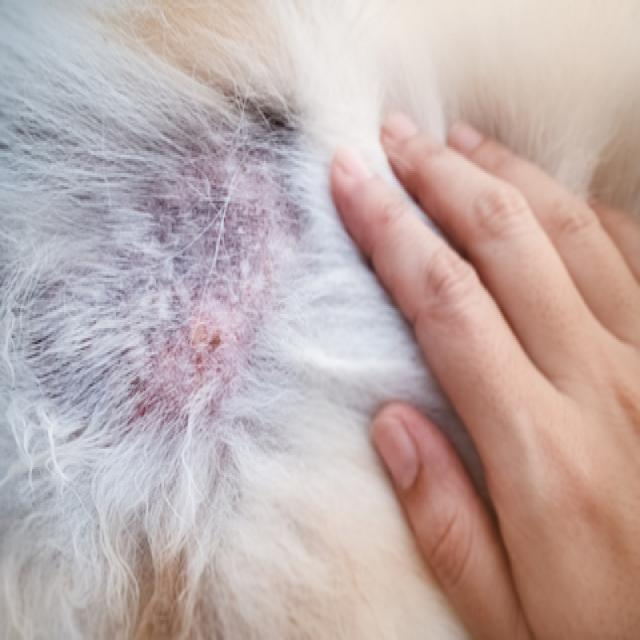allergic dermatitis: (107, 129, 306, 417)
